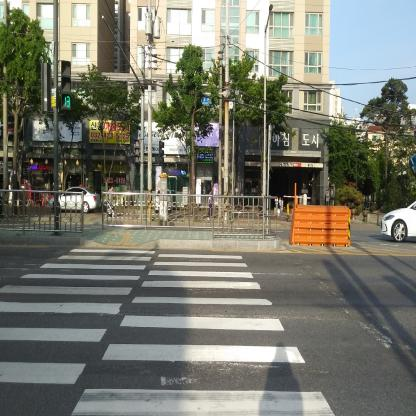Green: (60, 60, 72, 110)
